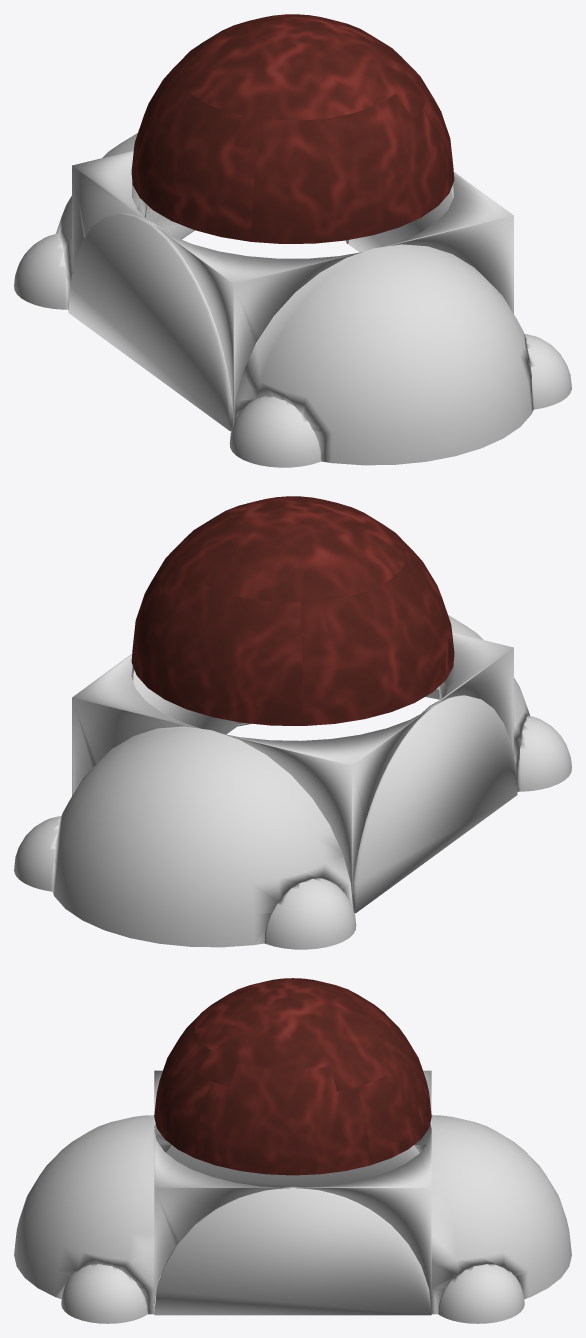
The model's file is DomeSmoth.fbx.
3 views of the same model, one above another, from view 1: azimuth 30°, elevation 25°; view 2: azimuth 150°, elevation 25°; view 3: azimuth 270°, elevation 25° (orthographic). The views are drawn at different scales.
Parts seen in each view (by area): view 1: C Dome, S Dome, W arch wall, SW roof corner, SE roof corner, SW corner dome, NW roof corner, NW Corner Dome, SE cornerDome, N Dome, E arch wall; view 2: C Dome, N Dome, W arch wall, NW roof corner, NE roof corner, NW Corner Dome, SW roof corner, SW corner dome, NE CornerDome, E arch wall, S Dome; view 3: C Dome, E arch wall, N Dome, S Dome, NE roof corner, SE roof corner, SE cornerDome, NE CornerDome, W arch wall.
Part boxes in pixels (bbox=[...]): C Dome: bbox=[131, 14, 454, 243]; S Dome: bbox=[232, 244, 533, 465]; W arch wall: bbox=[68, 213, 233, 431]; SW roof corner: bbox=[153, 225, 361, 418]; SE roof corner: bbox=[384, 172, 513, 313]; SW corner dome: bbox=[229, 396, 321, 467]; NW roof corner: bbox=[72, 150, 152, 273]; NW Corner Dome: bbox=[14, 233, 68, 309]; SE cornerDome: bbox=[524, 334, 571, 409]; N Dome: bbox=[56, 133, 348, 310]; E arch wall: bbox=[348, 189, 453, 252]; C Dome: bbox=[131, 496, 454, 725]; N Dome: bbox=[52, 726, 353, 947]; W arch wall: bbox=[352, 695, 517, 913]; NW roof corner: bbox=[223, 706, 432, 900]; NE roof corner: bbox=[72, 654, 200, 795]; NW Corner Dome: bbox=[264, 878, 356, 949]; SW roof corner: bbox=[433, 632, 513, 755]; SW corner dome: bbox=[517, 715, 571, 791]; NE CornerDome: bbox=[14, 816, 61, 891]; E arch wall: bbox=[133, 670, 237, 734]; S Dome: bbox=[237, 615, 529, 792]; C Dome: bbox=[154, 978, 431, 1175]; E arch wall: bbox=[154, 1186, 431, 1315]; N Dome: bbox=[431, 1115, 571, 1314]; S Dome: bbox=[14, 1115, 154, 1314]; NE roof corner: bbox=[296, 1129, 431, 1310]; SE roof corner: bbox=[154, 1131, 289, 1308]; SE cornerDome: bbox=[61, 1264, 147, 1323]; NE CornerDome: bbox=[438, 1264, 524, 1323]; W arch wall: bbox=[166, 1145, 419, 1187].
Bounding box in the file's own units: 3510 × 3151 × 6030.
